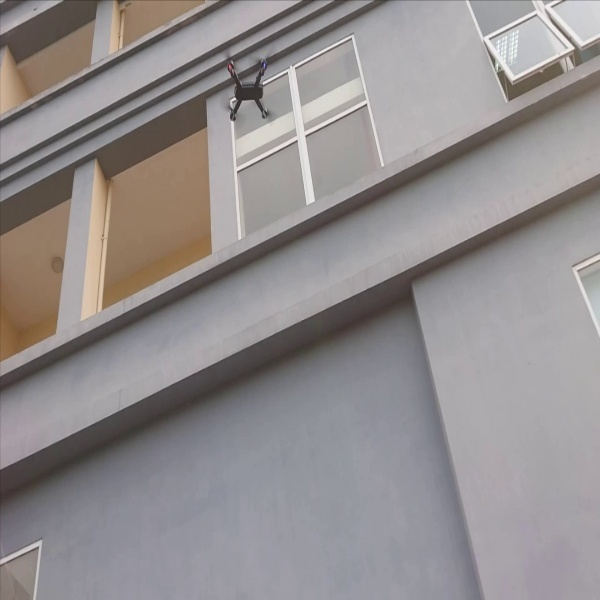drone: (215, 34, 281, 128)
